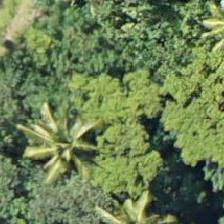coconut_tree: (17, 101, 107, 191)
